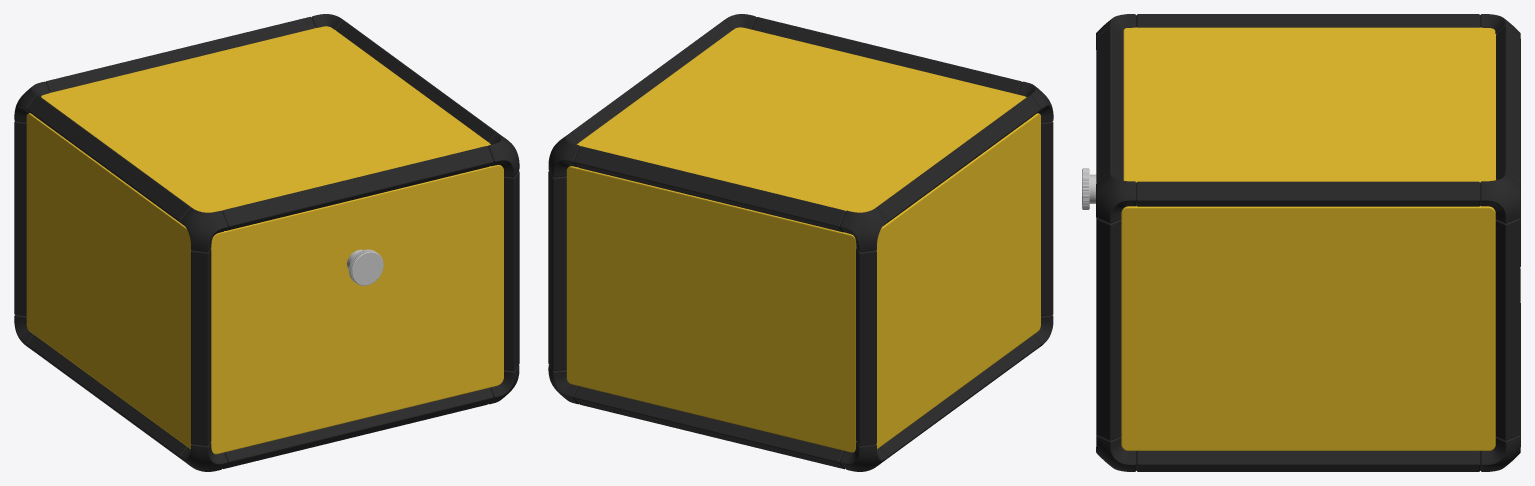
The picture shows the model from 3 angles, left to right: view 1: azimuth 30°, elevation 25°; view 2: azimuth 150°, elevation 25°; view 3: azimuth 270°, elevation 25°; orthographic projection. The views are drawn at different scales.
Visible parts, largest first — view 1: 329x329x229; view 2: 329x329x229; view 3: 329x329x229.
Part boxes in pixels (x1,y1,x2,y2): 329x329x229: [14, 14, 519, 471]; 329x329x229: [548, 14, 1053, 471]; 329x329x229: [1082, 14, 1520, 471].
Bounding box in the file's own units: 0.4067 × 0.3066 × 0.4196.
